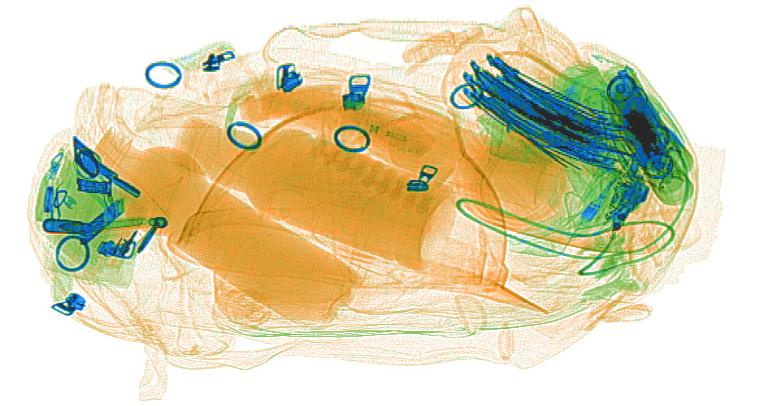battery: (607, 75, 671, 152), (616, 105, 672, 179)
plasticBottleWithaNozzle: (336, 97, 554, 208)
